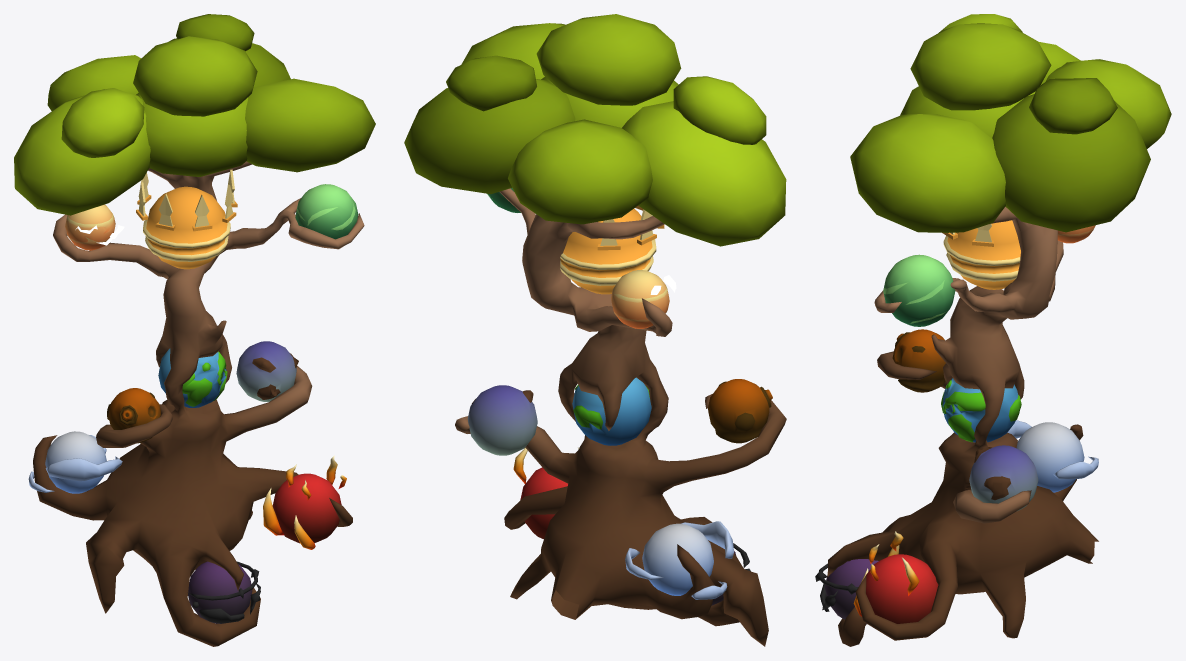
Rendered from 3DEC_12.fbx.
3 views of the same model, side by side, from view 1: azimuth 30°, elevation 25°; view 2: azimuth 150°, elevation 25°; view 3: azimuth 270°, elevation 25° (orthographic). The views are drawn at different scales.
Parts seen in each view (by area): view 1: Sphere; view 2: Sphere; view 3: Sphere.
Part boxes in pixels (left/top/right/bottom): Sphere: left=14, top=14, right=375, bottom=646; Sphere: left=404, top=14, right=786, bottom=646; Sphere: left=815, top=14, right=1171, bottom=646.
Bounding box in the file's own units: 1328 × 2290 × 1181.
15 materials, 11 textured.
